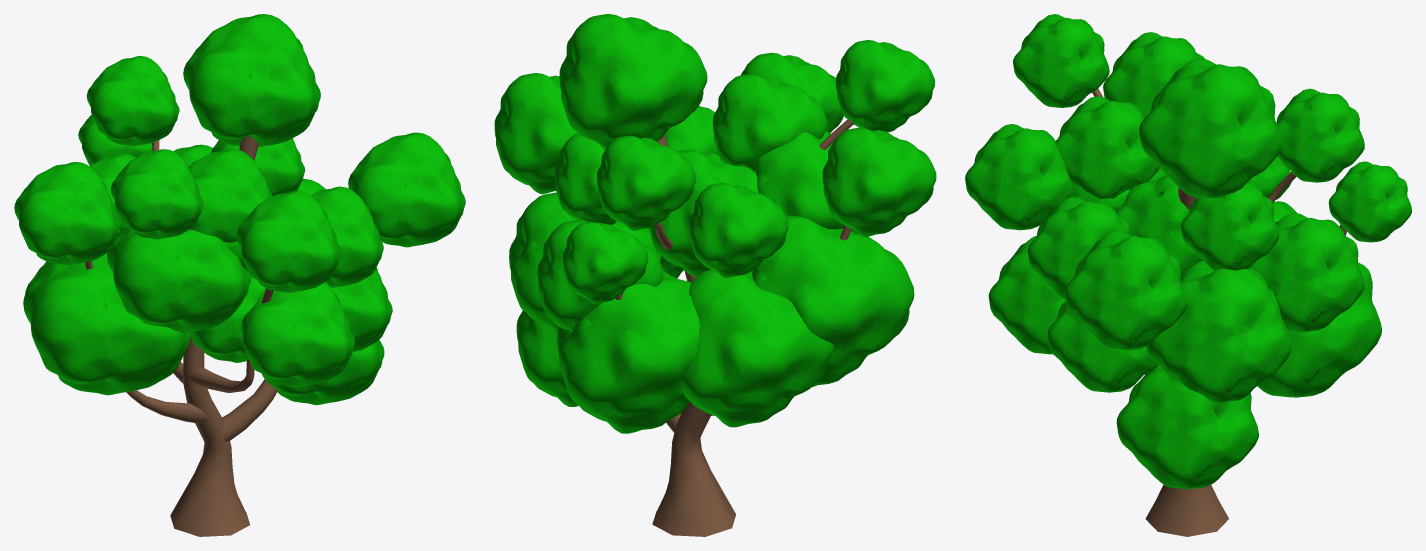
The model's file is Base tree_LOD60.fbx.
3 views of the same model, side by side, from view 1: azimuth 30°, elevation 25°; view 2: azimuth 150°, elevation 25°; view 3: azimuth 270°, elevation 25° (orthographic). The views are drawn at different scales.
Parts seen in each view (by area): view 1: VG_Tree_01; view 2: VG_Tree_01; view 3: VG_Tree_01.
Boxes of the visible parts, x1,y1,x2,y2 form: VG_Tree_01: (14, 14, 465, 536); VG_Tree_01: (494, 14, 936, 536); VG_Tree_01: (965, 14, 1411, 536).
Size of the model in its own units: 7.93 by 8.49 by 7.11.
